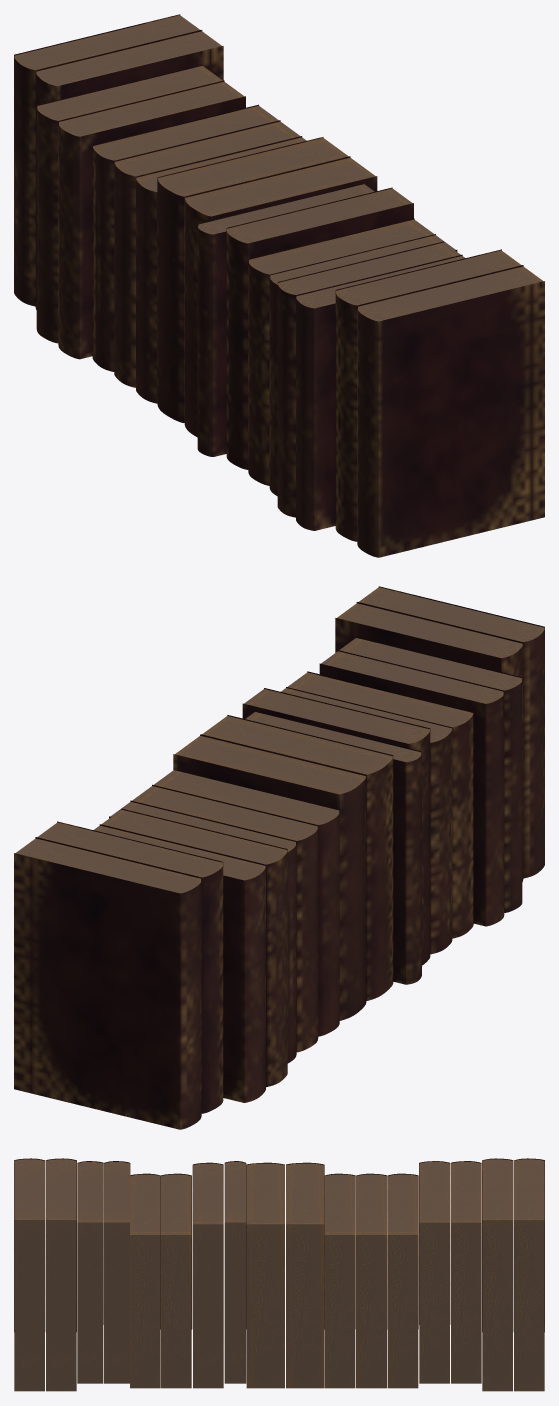
The model's file is SM_BookPile2.fbx.
3 renders of one model, top to bottom at view 1: azimuth 30°, elevation 25°; view 2: azimuth 150°, elevation 25°; view 3: azimuth 270°, elevation 25°, orthographic. The views are drawn at different scales.
Visible parts, largest first — view 1: SM_BookPile2_LOD0; view 2: SM_BookPile2_LOD0; view 3: SM_BookPile2_LOD0.
Boxes of the visible parts, x1,y1,x2,y2 form: SM_BookPile2_LOD0: [14, 14, 544, 557]; SM_BookPile2_LOD0: [14, 586, 544, 1129]; SM_BookPile2_LOD0: [14, 1158, 544, 1391].
Bounding box in the file's own units: 37.76 × 124 × 44.35.
Materials: 1 (1 with a texture image).
